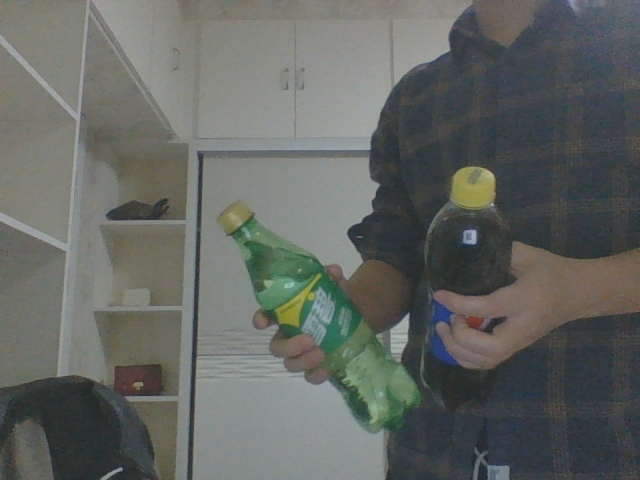Cola: (422, 161, 514, 416)
Sprite: (216, 198, 422, 436)
